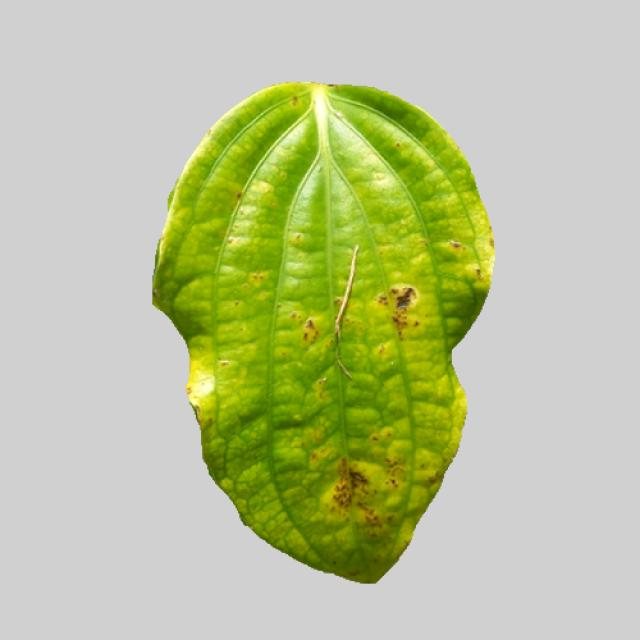yellow-mottle-virus: (132, 88, 523, 585)
